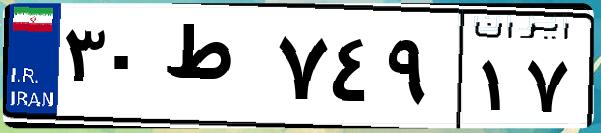0: (110, 28, 158, 98)
1: (475, 38, 525, 113)
3: (57, 26, 110, 100)
4: (330, 28, 385, 110)
7: (270, 28, 330, 110), (525, 38, 570, 115)
9: (385, 28, 445, 110)
ط: (158, 20, 270, 120)
